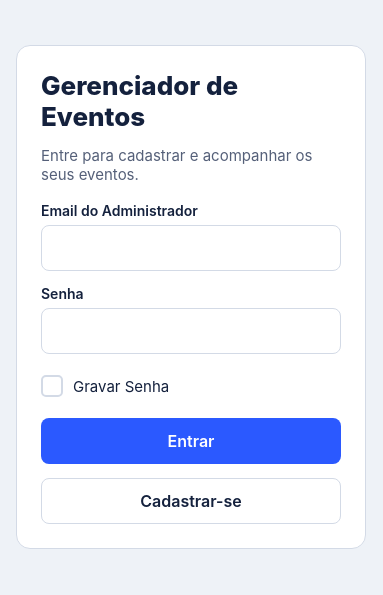
Scenario: login errado mostra o erro e continua no Login
The width and height of the screenshot is (383, 595).
Type "maria@email.com" into the field named "Email do Administrador" at point(191, 248), box [41, 225, 341, 271]
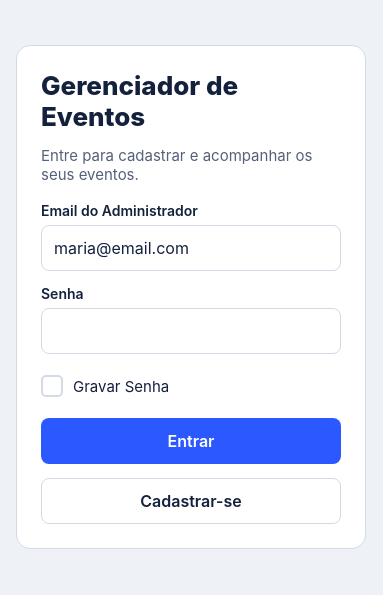
Type "errada" into the password field named "Senha" at point(191, 331), box [41, 308, 341, 354]
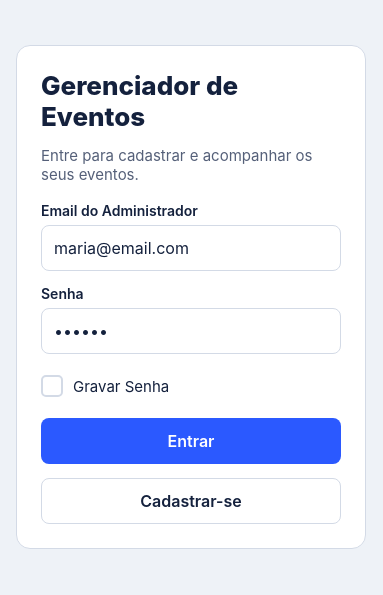
Click the button "Entrar" at point(191, 441), box [41, 418, 341, 464]
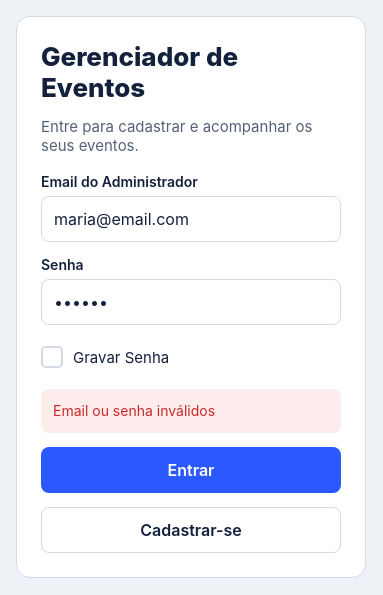
Expected: the text "Email ou senha inválidos" is shown, [41, 389, 341, 433]
